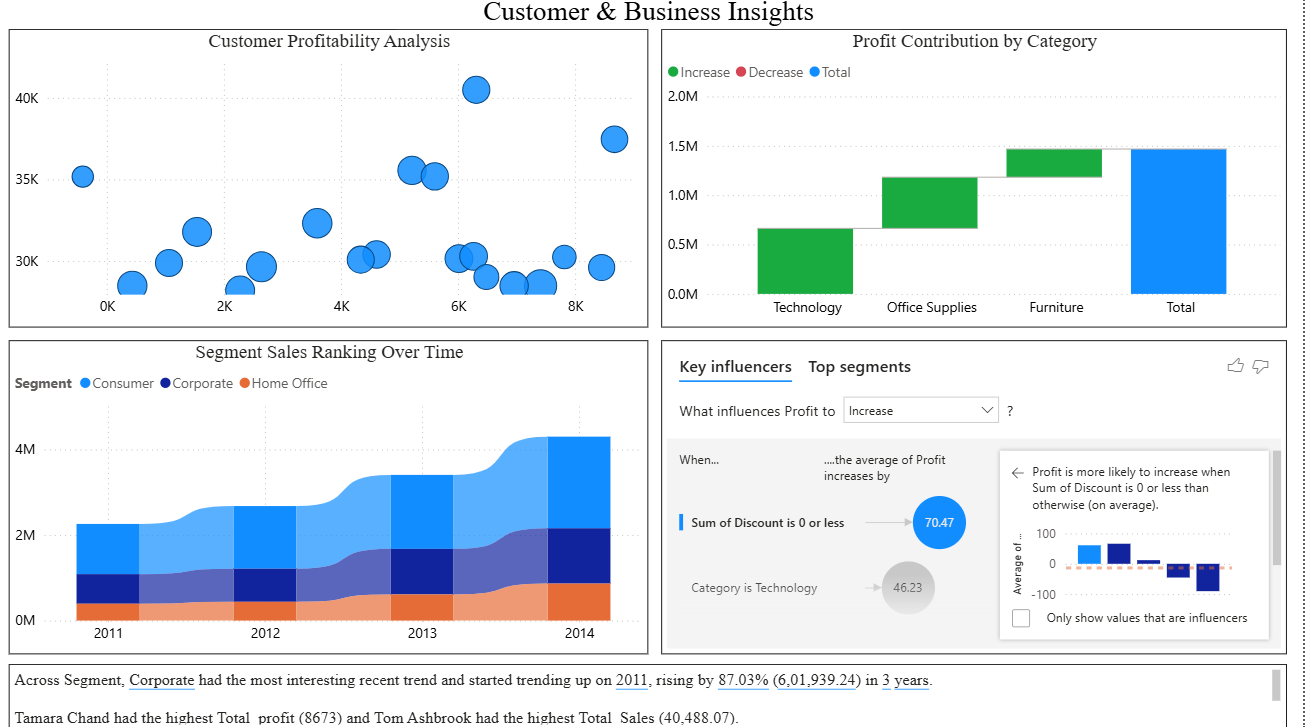

This screenshot's page, from the dashboard's own definition file:
{"tool":"powerbi","page":{"name":"Customer & Adavanced Insights","canvas":[1280,720],"ordinal":2},"visuals":[{"type":"ribbonChart","title":"Segment Sales Ranking Over Time","fields":{"Category":["Orders.Order_Date.Variation.Date Hierarchy.Year"],"Series":["Orders.Segment"],"Y":["\"measures\".Total_Sales"]},"box":[13.7,338.9,625.7,307.4],"z":0},{"type":"waterfallChart","title":"Profit Contribution by Category","fields":{"Category":["Orders.Category"],"Y":["\"measures\".Total_profit"]},"box":[651.8,34.3,612,292.3],"z":1000},{"type":"scatterChart","title":"Customer Profitability Analysis","fields":{"Category":["Orders.Customer_Name"],"Size":["\"measures\".Total_Quantity"],"X":["\"measures\".Total_profit"],"Y":["\"measures\".Total_Sales"]},"box":[13.7,34.3,625.7,292.3],"z":2000},{"type":"textbox","box":[13.7,655.9,1250.1,65],"z":3000},{"type":"keyDriversVisual","title":"Key Profit Drivers (AI Analysis","fields":{"ExplainBy":["Orders.Ship_Mode","Orders.Category","Orders.Market","Orders.Region","Sum(Orders.Discount)"],"Target":["Orders.Profit"]},"box":[651.8,338.9,612,307.4],"z":4000},{"type":"shape","box":[393.8,0,491.3,34.3],"z":4001}]}

Visuals, with their boxes in screenshot pixels (x1, y1, x2, y2), scaled from the page's 1280x720 canvas onto the 1305x727 screenshot:
"Segment Sales Ranking Over Time" ribbonChart: 14 342 652 653
"Profit Contribution by Category" waterfallChart: 665 35 1288 330
"Customer Profitability Analysis" scatterChart: 14 35 652 330
textbox: 14 662 1288 726
"Key Profit Drivers (AI Analysis" keyDriversVisual: 665 342 1288 653
shape: 401 0 902 35
